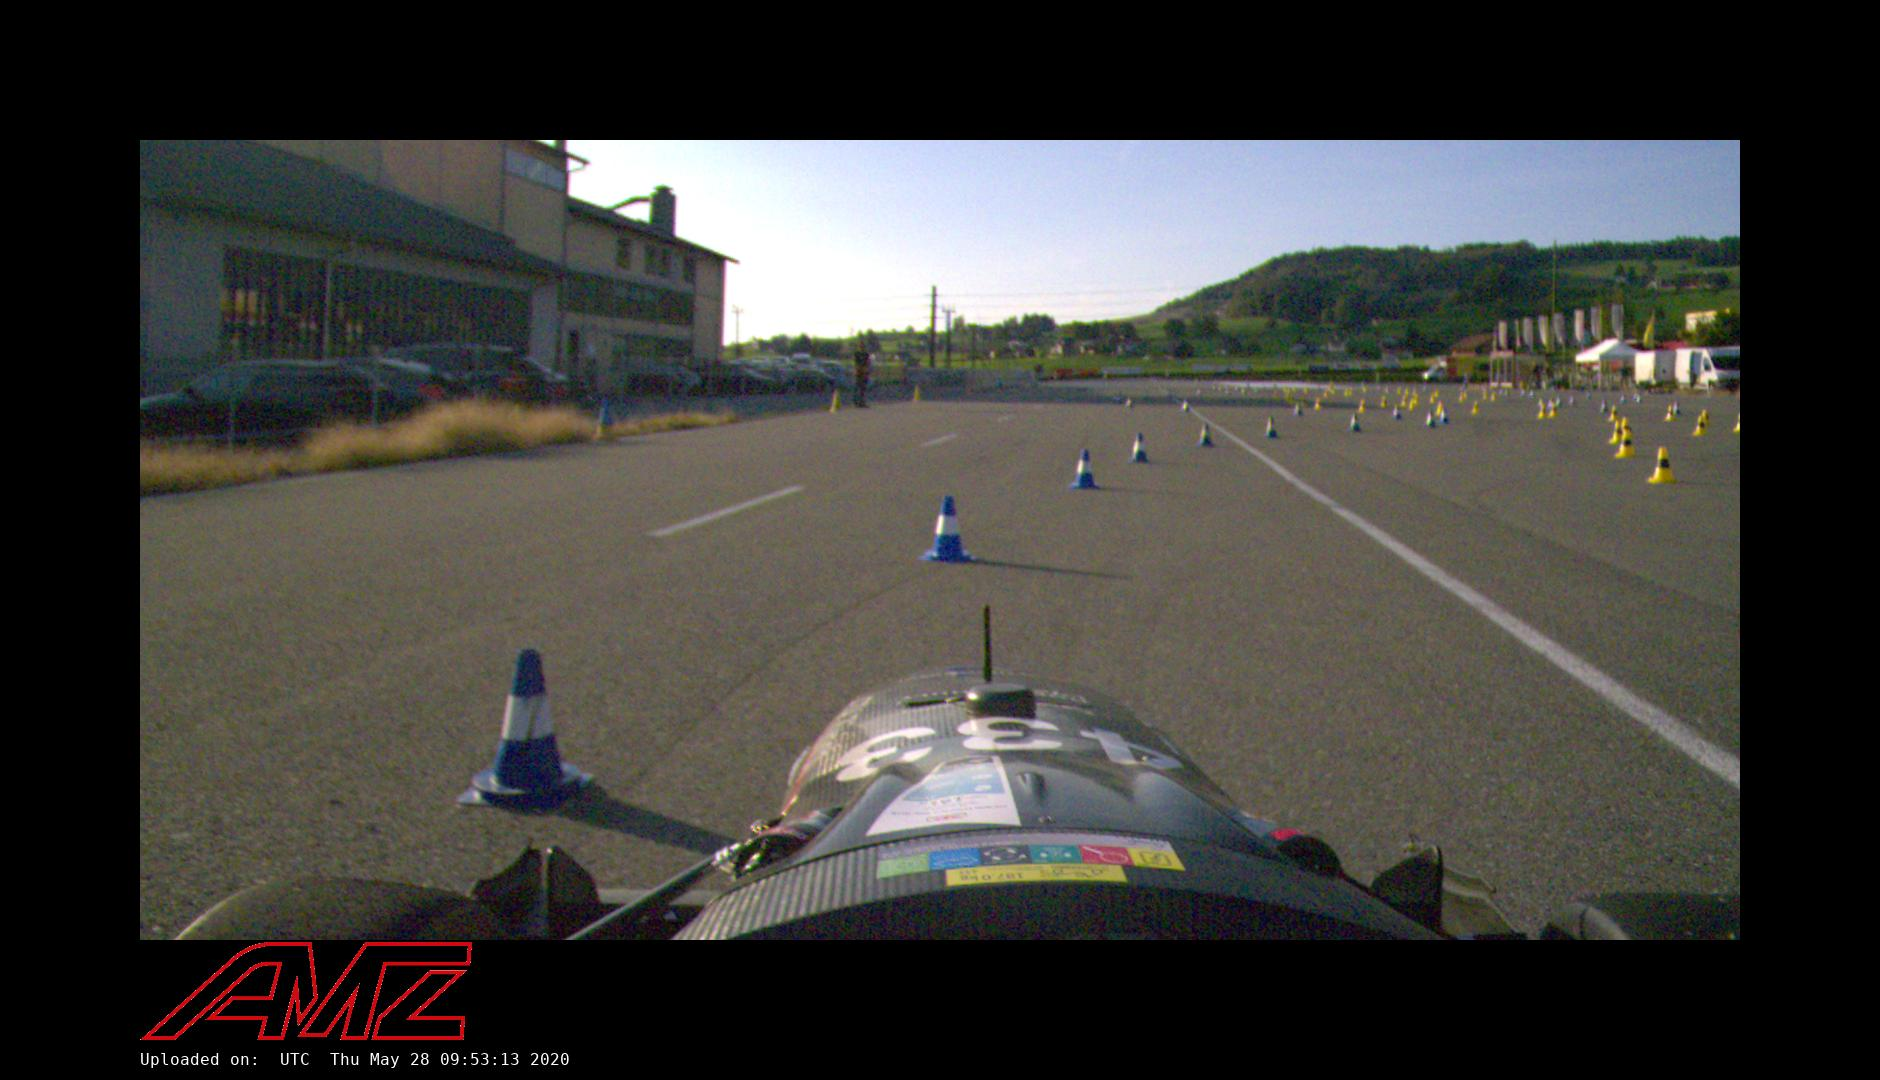blue_cone: (455, 647, 595, 816), (917, 495, 977, 565), (1068, 450, 1101, 490), (1129, 431, 1150, 462), (1262, 416, 1280, 438), (1197, 422, 1214, 446), (1347, 412, 1364, 433), (1425, 410, 1436, 429), (1438, 406, 1447, 422), (1392, 406, 1402, 419), (1672, 400, 1680, 415)
yellow_cone: (1649, 444, 1679, 482), (1615, 428, 1635, 459), (1608, 421, 1624, 444), (1694, 417, 1707, 435), (1608, 406, 1620, 420), (1664, 406, 1675, 421), (1701, 410, 1710, 426), (1733, 413, 1739, 433)
